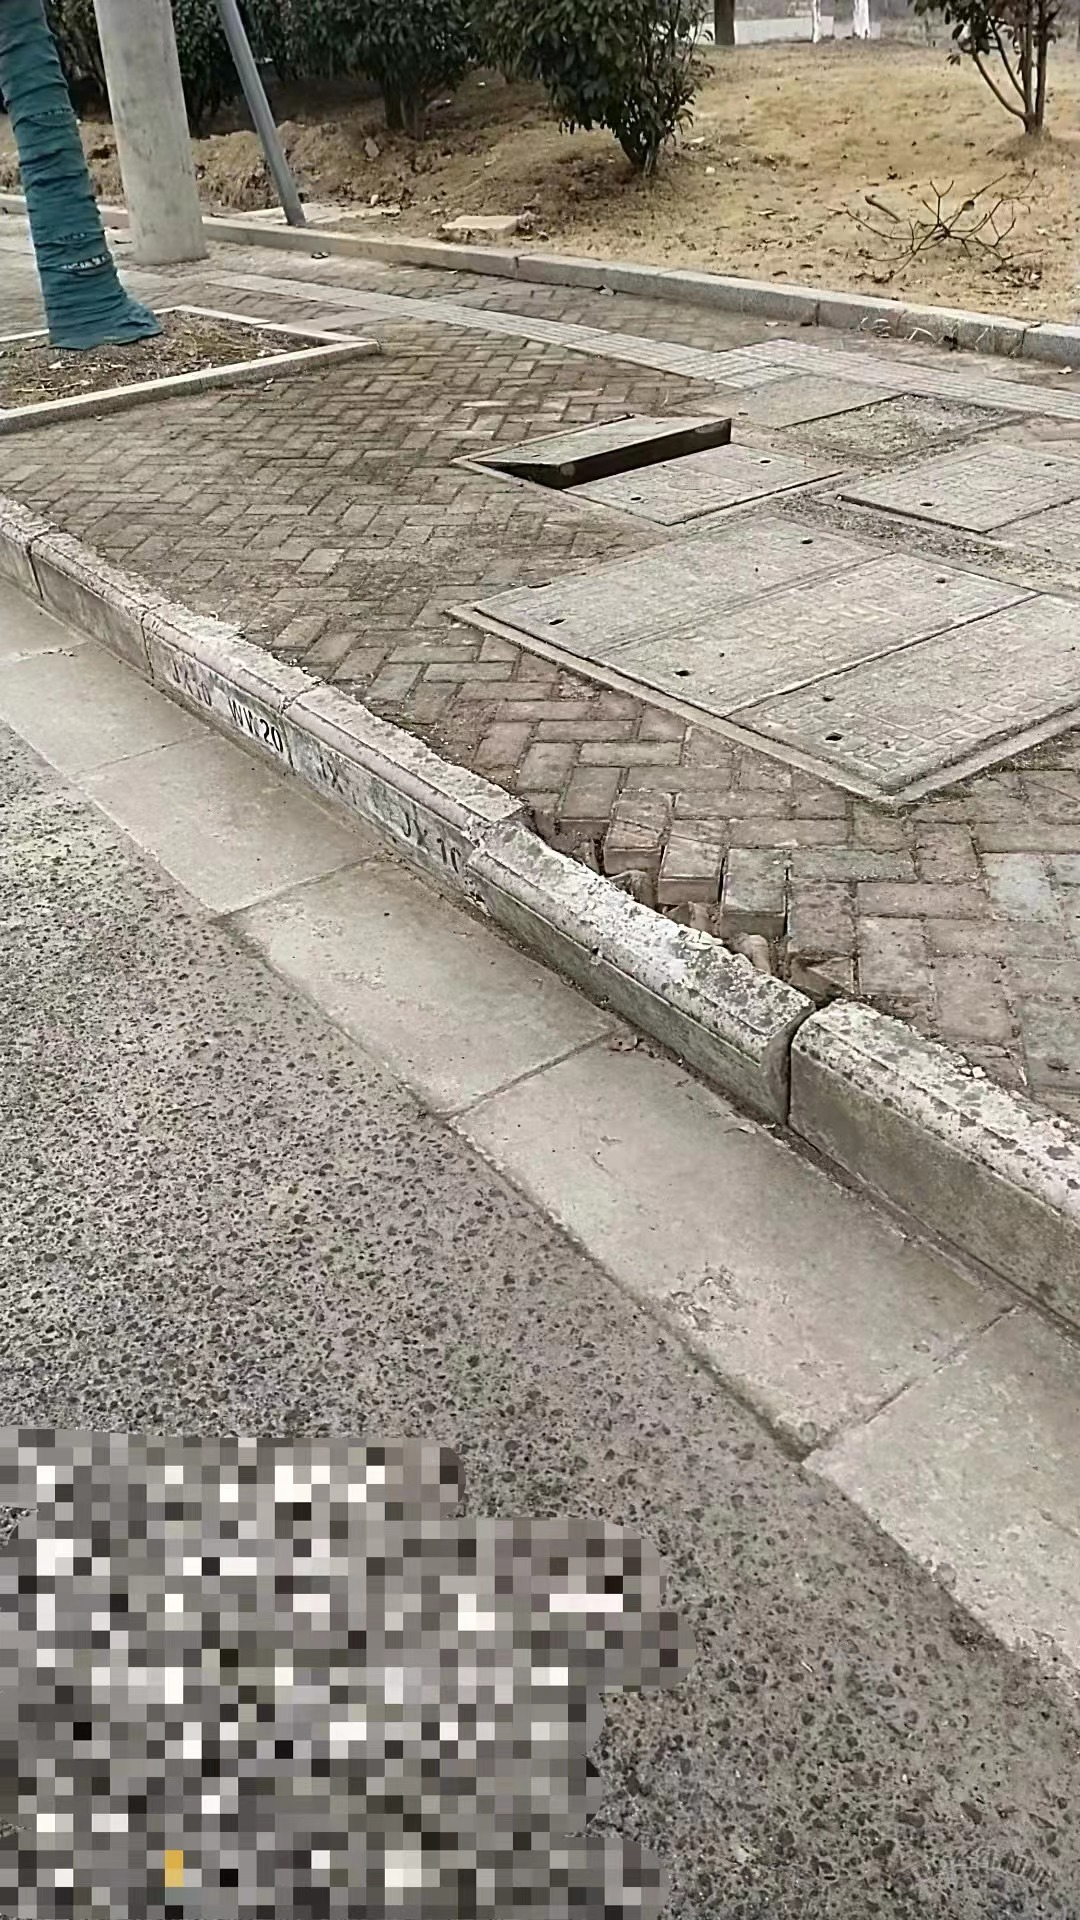well: (425, 516, 1080, 815), (467, 411, 796, 500)
